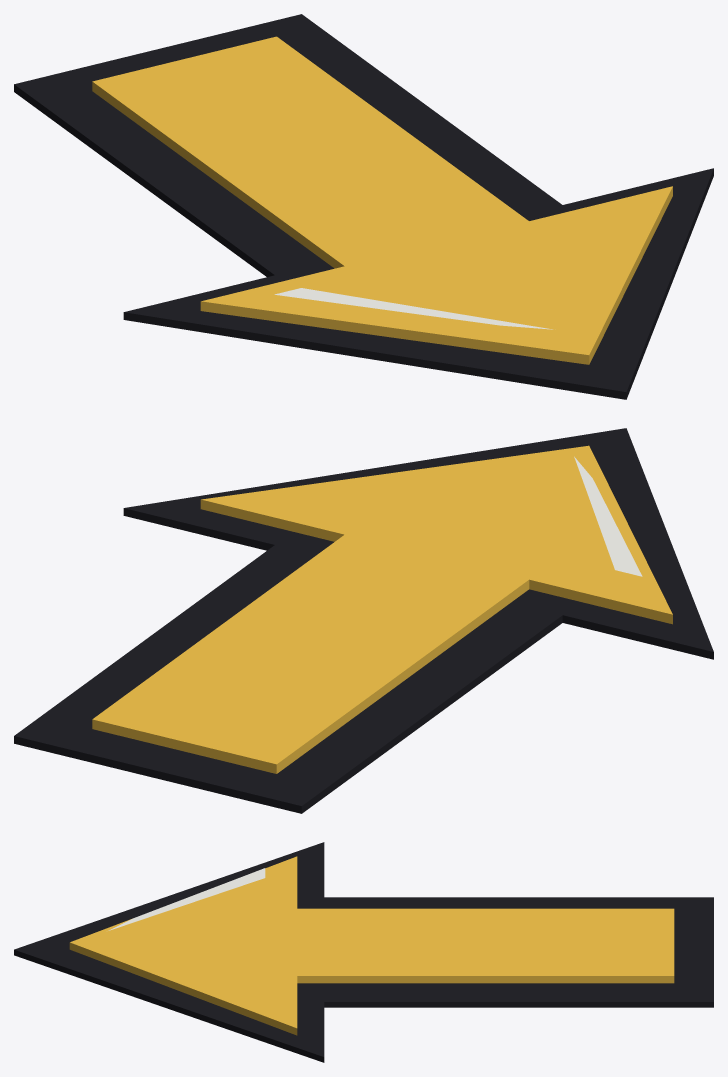
Rendered from FlechaSuelo.fbx.
The picture shows the model from 3 angles, top to bottom: view 1: azimuth 30°, elevation 25°; view 2: azimuth 150°, elevation 25°; view 3: azimuth 270°, elevation 25°; orthographic projection. The views are drawn at different scales.
Visible parts, largest first — view 1: FlechaSuelo; view 2: FlechaSuelo; view 3: FlechaSuelo.
Part boxes in pixels (bbox=[...]): FlechaSuelo: bbox=[14, 14, 713, 399]; FlechaSuelo: bbox=[14, 428, 713, 813]; FlechaSuelo: bbox=[14, 842, 713, 1062].
Bounding box in the file's own units: 3.2 × 0.1404 × 4.4.
Materials: 1 (1 with a texture image).
